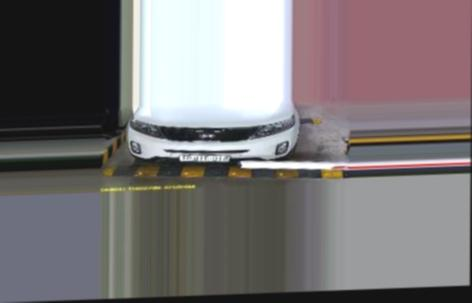License_Plate: (176, 150, 229, 164)
